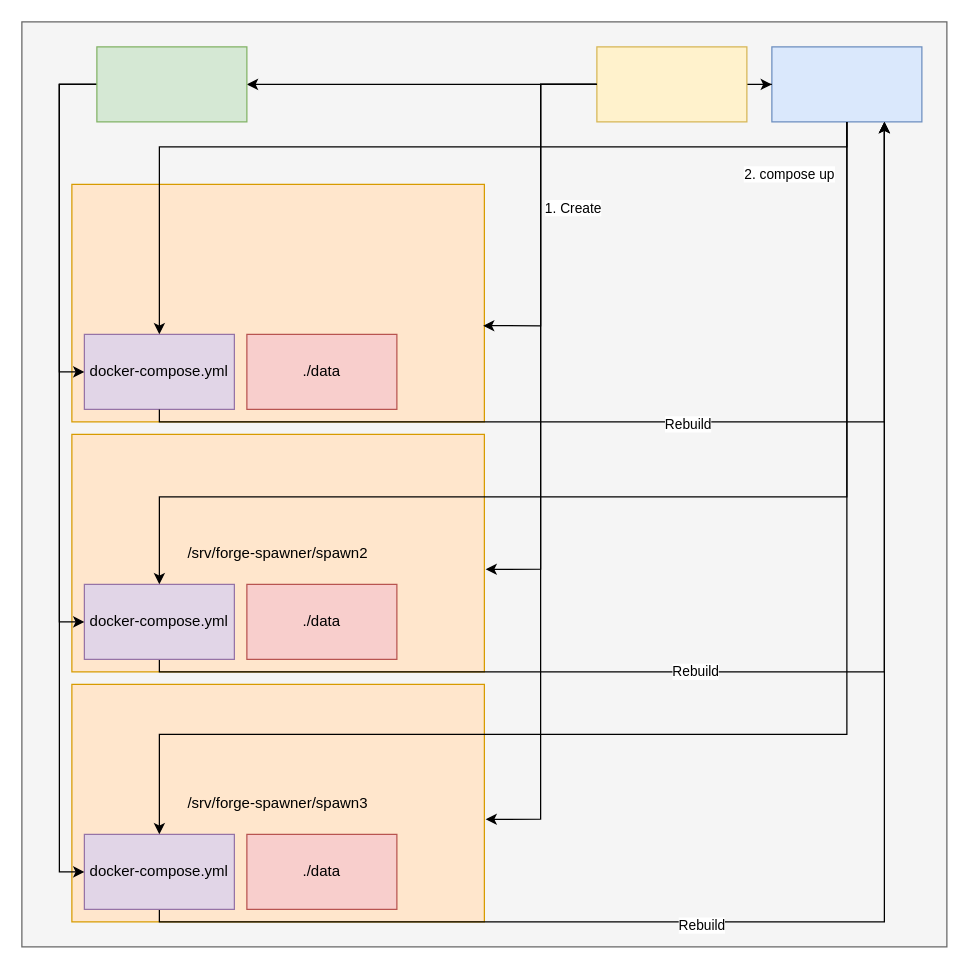
The diagram is 969 pixels wide and 969 high, and some of its shapes have lost their labels. The box of each missing label's shape, as (x1, y1, x2, y2) in pixels:
/srv/forge-spawner/spawn1: (71, 183, 484, 422)
Docker: (771, 46, 922, 122)
forge-spawner: (596, 46, 747, 122)
server configuration updates: (96, 46, 247, 122)
